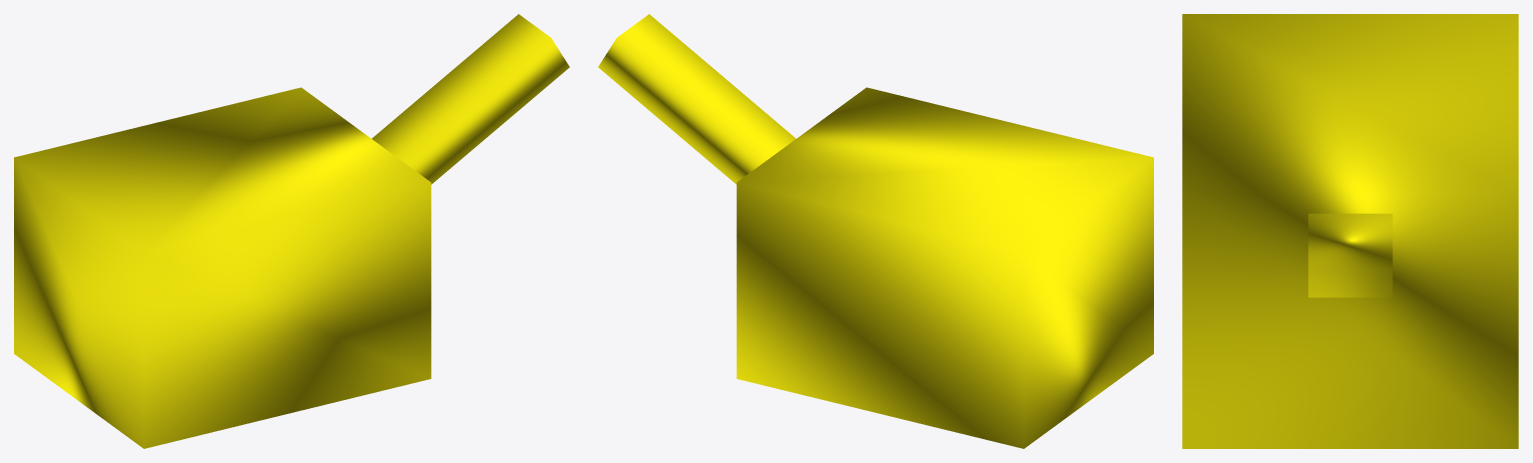
Rendered from Komatsu_PC210_Excavator_Yellow.glb.
3 renders of one model, left to right at view 1: azimuth 30°, elevation 25°; view 2: azimuth 150°, elevation 25°; view 3: azimuth 270°, elevation 25°, orthographic. The views are drawn at different scales.
Parts seen in each view (by area): view 1: Komatsu_PC210_Excavator; view 2: Komatsu_PC210_Excavator; view 3: Komatsu_PC210_Excavator.
Part boxes in pixels (bbox=[...]): Komatsu_PC210_Excavator: bbox=[14, 14, 569, 448]; Komatsu_PC210_Excavator: bbox=[598, 14, 1153, 448]; Komatsu_PC210_Excavator: bbox=[1182, 14, 1518, 448].
Bounding box in the file's own units: 8.1 × 4.31 × 3.84.
